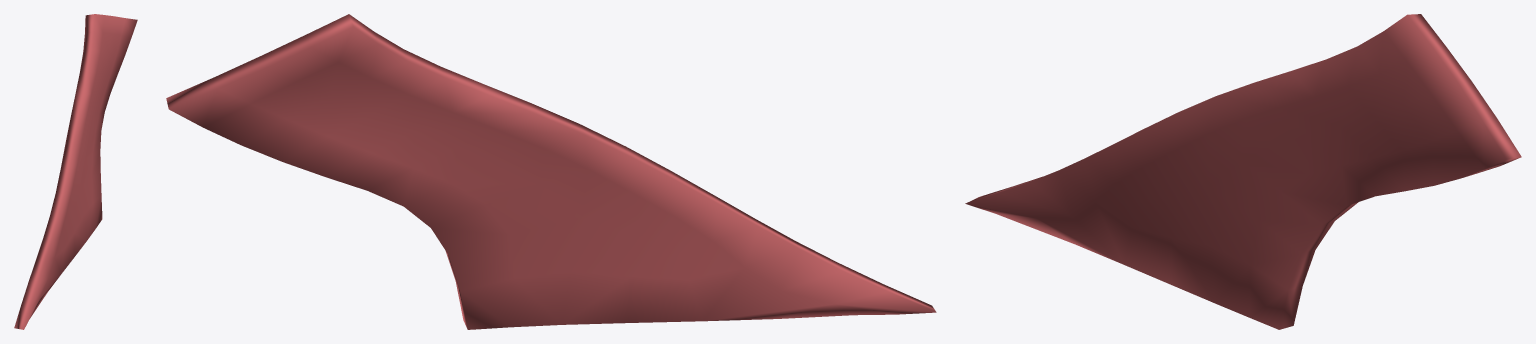
The picture shows the model from 3 angles, left to right: view 1: azimuth 30°, elevation 25°; view 2: azimuth 150°, elevation 25°; view 3: azimuth 270°, elevation 25°; orthographic projection. The views are drawn at different scales.
Parts seen in each view (by area): view 1: 右侧髂耻弓; view 2: 右侧髂耻弓; view 3: 右侧髂耻弓.
Part boxes in pixels (box(x1,y1,x2,y2)): 右侧髂耻弓: box(14, 14, 137, 329); 右侧髂耻弓: box(166, 14, 936, 329); 右侧髂耻弓: box(965, 14, 1521, 329).
Bounding box in the file's own units: 0.043 × 0.0297 × 0.0411.
